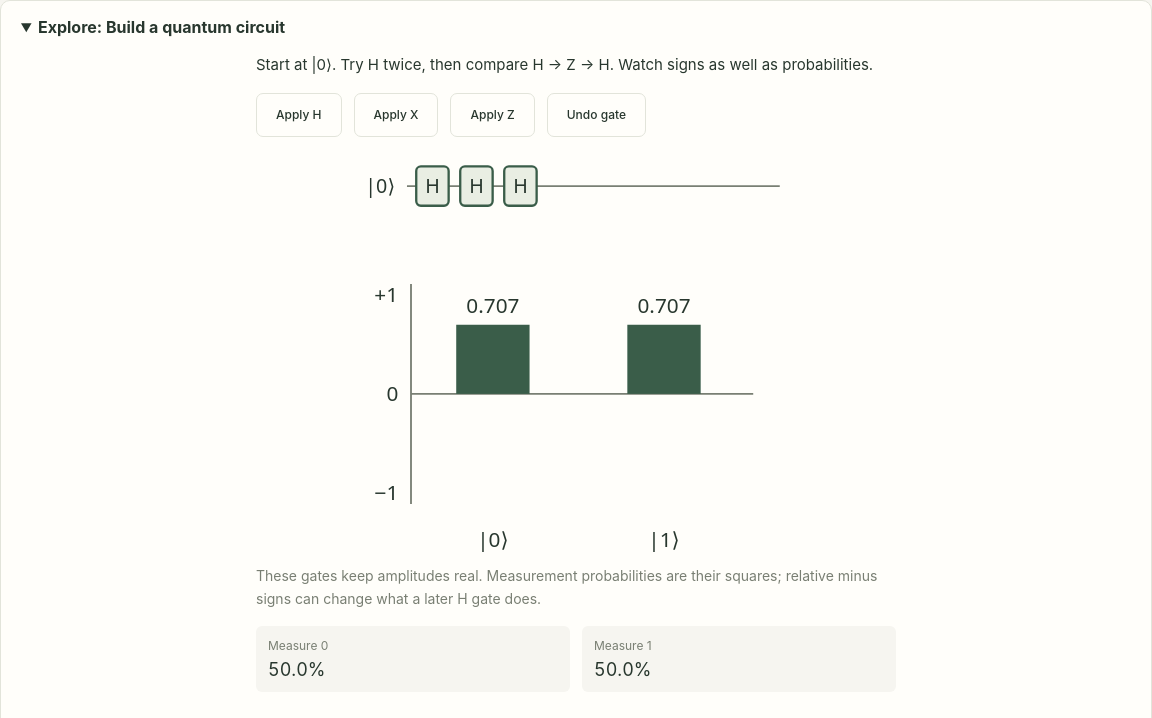
Test: bounds circuit length and allows editing after the cap is reached
This screenshot has width=1152, height=718.
Earlier steps of the test are not shown.
Click the button "Apply H": (299, 115) [256, 93, 342, 137]
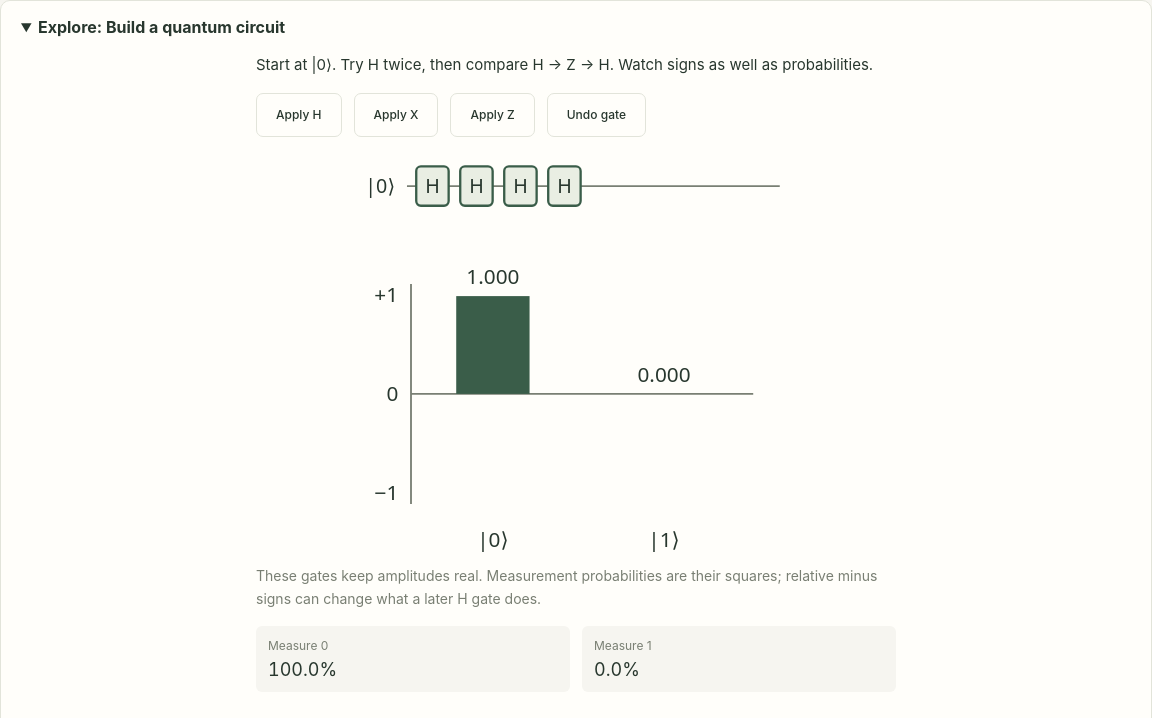
Click the button "Apply H": (299, 115) [256, 93, 342, 137]
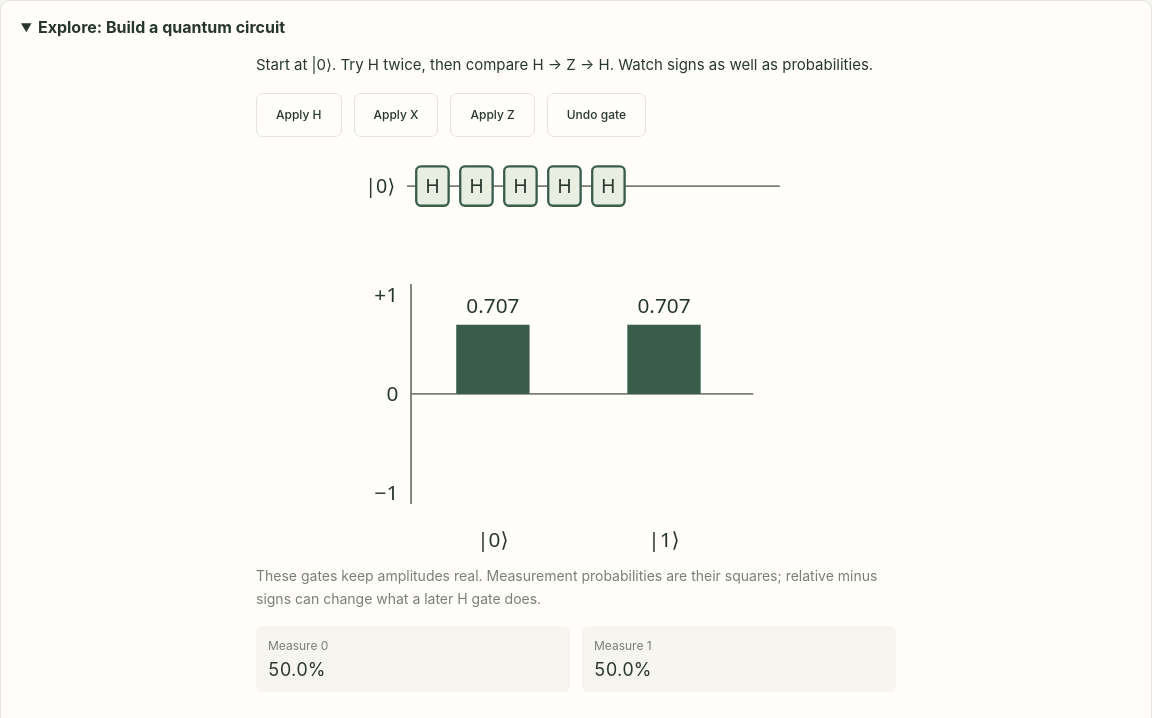
Click the button "Apply H": (299, 115) [256, 93, 342, 137]
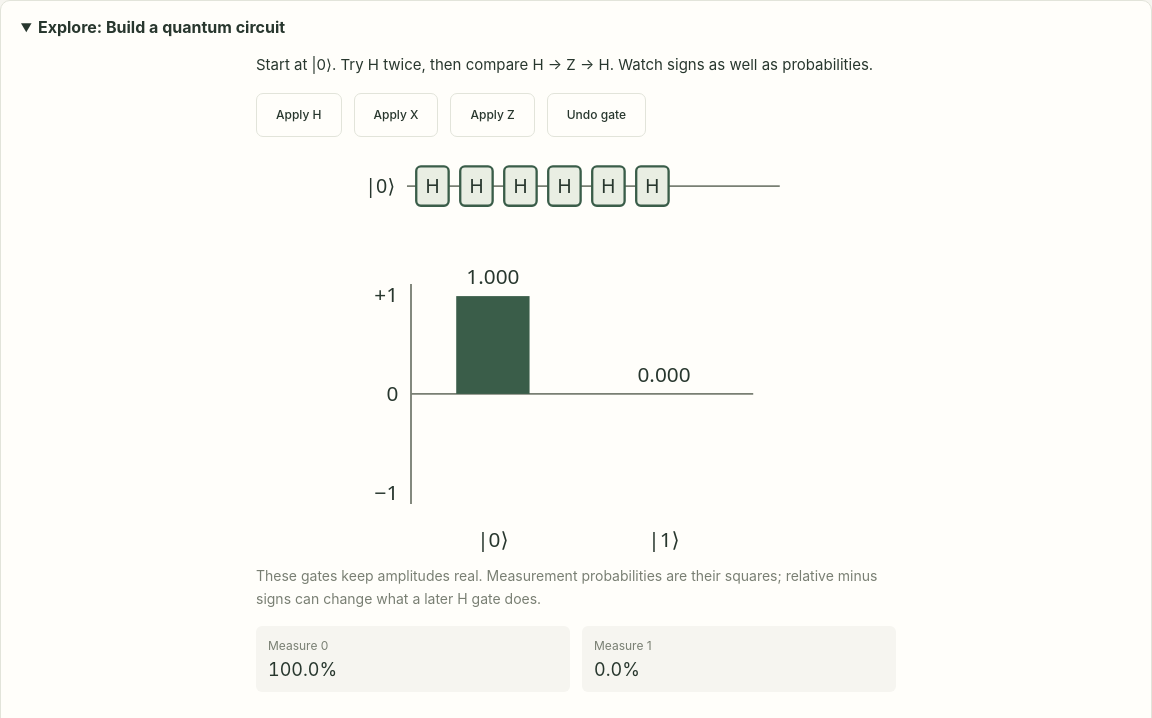
Click the button "Apply H": (299, 115) [256, 93, 342, 137]
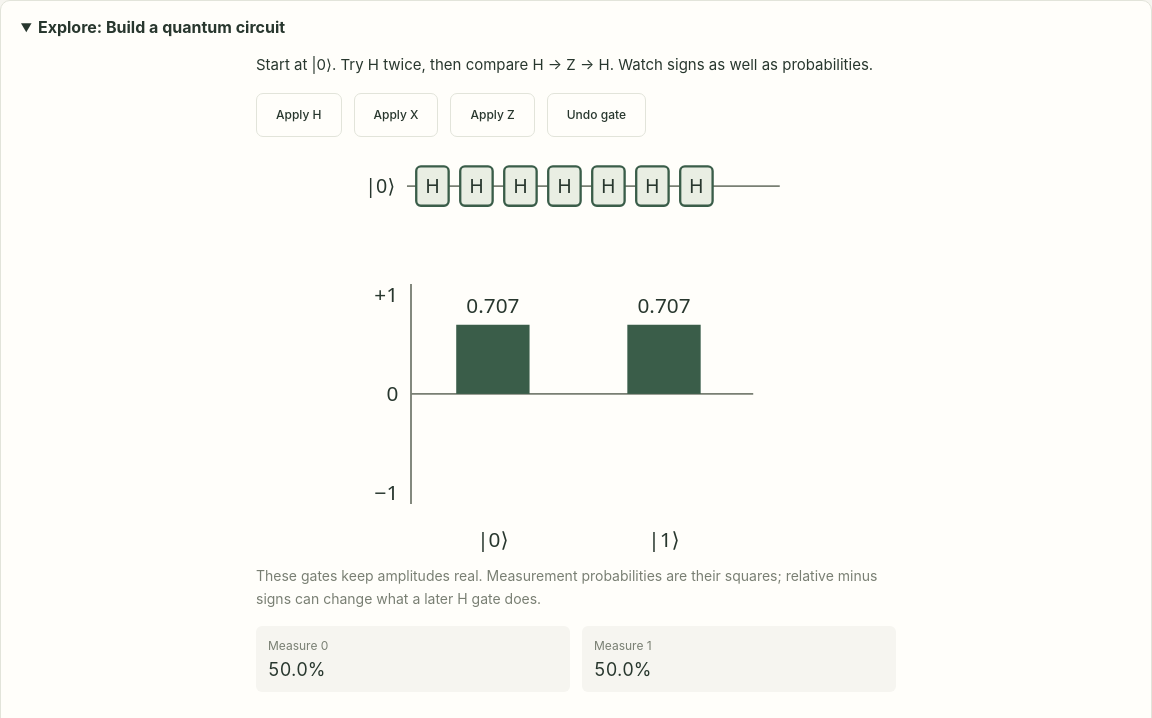
Click the button "Apply H": (299, 115) [256, 93, 342, 137]
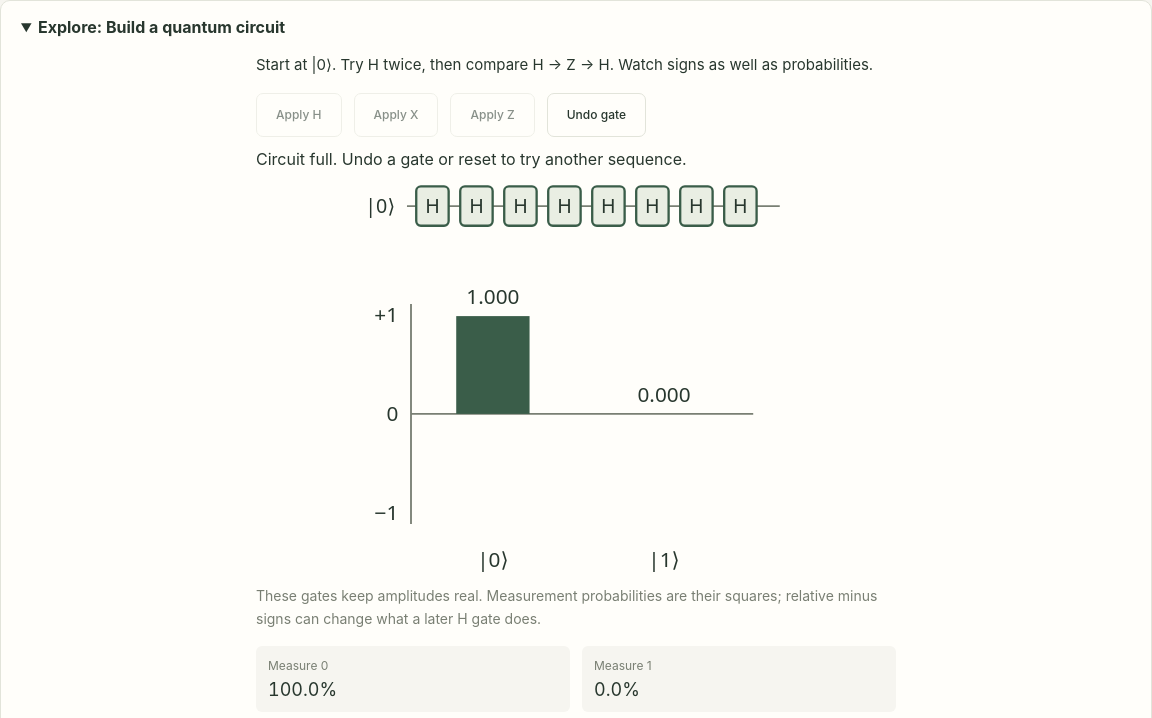
Expected: the button "Apply H" is disabled, [256, 93, 342, 137]
Click the button "Undo gate": (596, 115) [547, 93, 646, 137]
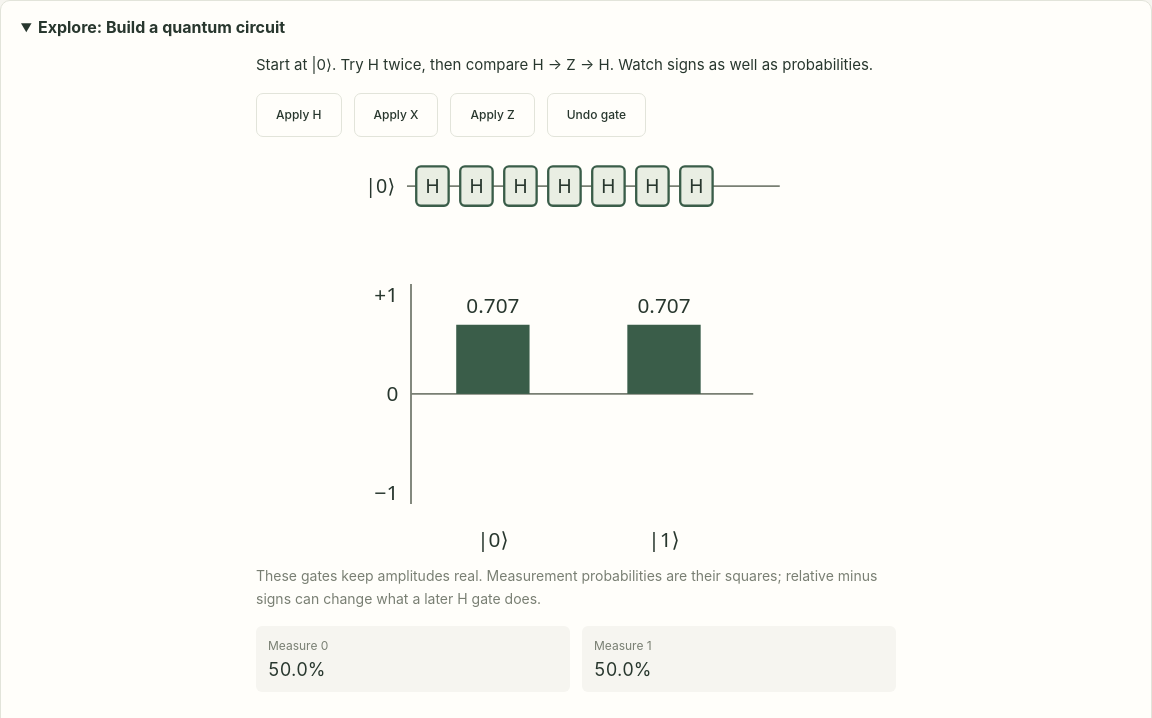
Expected: the button "Apply H" is enabled, [256, 93, 342, 137]
